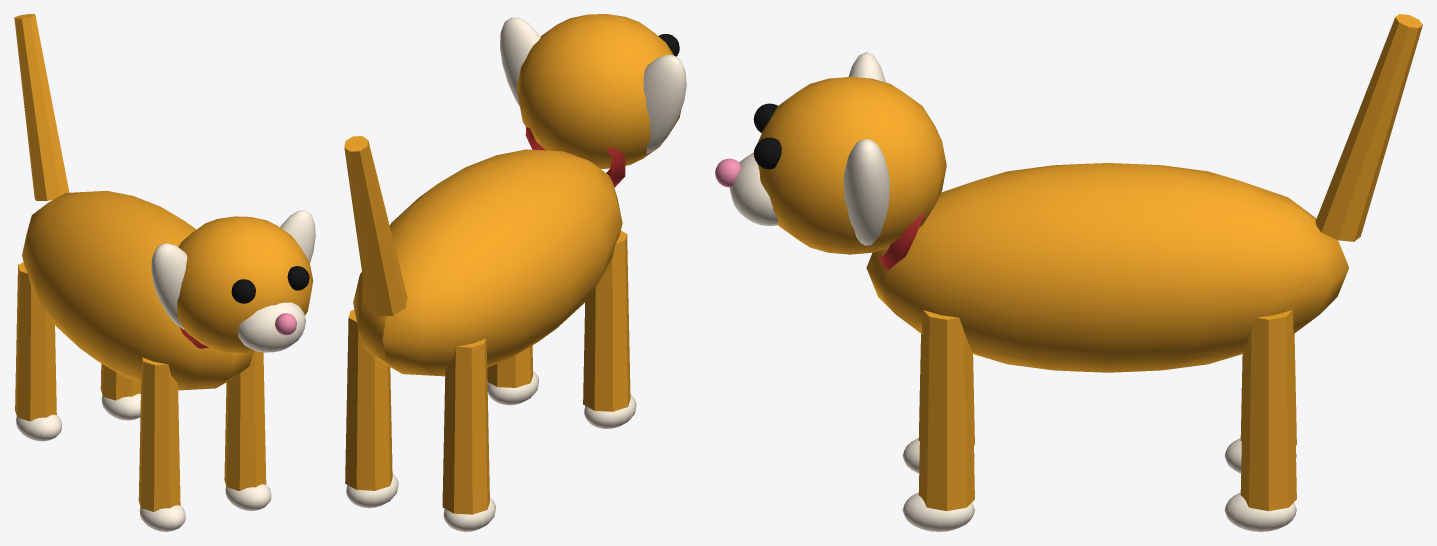
The model's file is homes_dog.glb.
3 views of the same model, side by side, from view 1: azimuth 30°, elevation 25°; view 2: azimuth 150°, elevation 25°; view 3: azimuth 270°, elevation 25° (orthographic). The views are drawn at different scales.
Visible parts, largest first — view 1: Body.009, Leg_FR.001, Leg_BR.001, Leg_FL.001, Tail.001, Leg_BL.001; view 2: Body.009, Leg_BR.001, Leg_FR.001, Leg_BL.001, Tail.001, Leg_FL.001; view 3: Body.009, Leg_BL.001, Leg_FL.001, Tail.001, Leg_BR.001, Leg_FR.001.
Part boxes in pixels (box(x1,y1,x2,y2)): Body.009: box(22, 190, 315, 390); Leg_FR.001: box(138, 357, 185, 531); Leg_BR.001: box(15, 262, 61, 441); Leg_FL.001: box(224, 351, 271, 510); Tail.001: box(14, 14, 69, 200); Leg_BL.001: box(100, 363, 141, 420); Body.009: box(353, 14, 686, 376); Leg_BR.001: box(442, 338, 495, 531); Leg_FR.001: box(583, 230, 636, 428); Leg_BL.001: box(345, 310, 398, 508); Tail.001: box(344, 136, 407, 316); Leg_FL.001: box(487, 345, 539, 405); Body.009: box(715, 52, 1348, 372); Leg_BL.001: box(1224, 310, 1296, 531); Leg_FL.001: box(902, 310, 974, 531); Tail.001: box(1315, 14, 1422, 241); Leg_BR.001: box(1224, 334, 1296, 473); Leg_FR.001: box(902, 334, 974, 473).
Bounding box in the file's own units: 0.3008 × 0.6636 × 0.8795.
